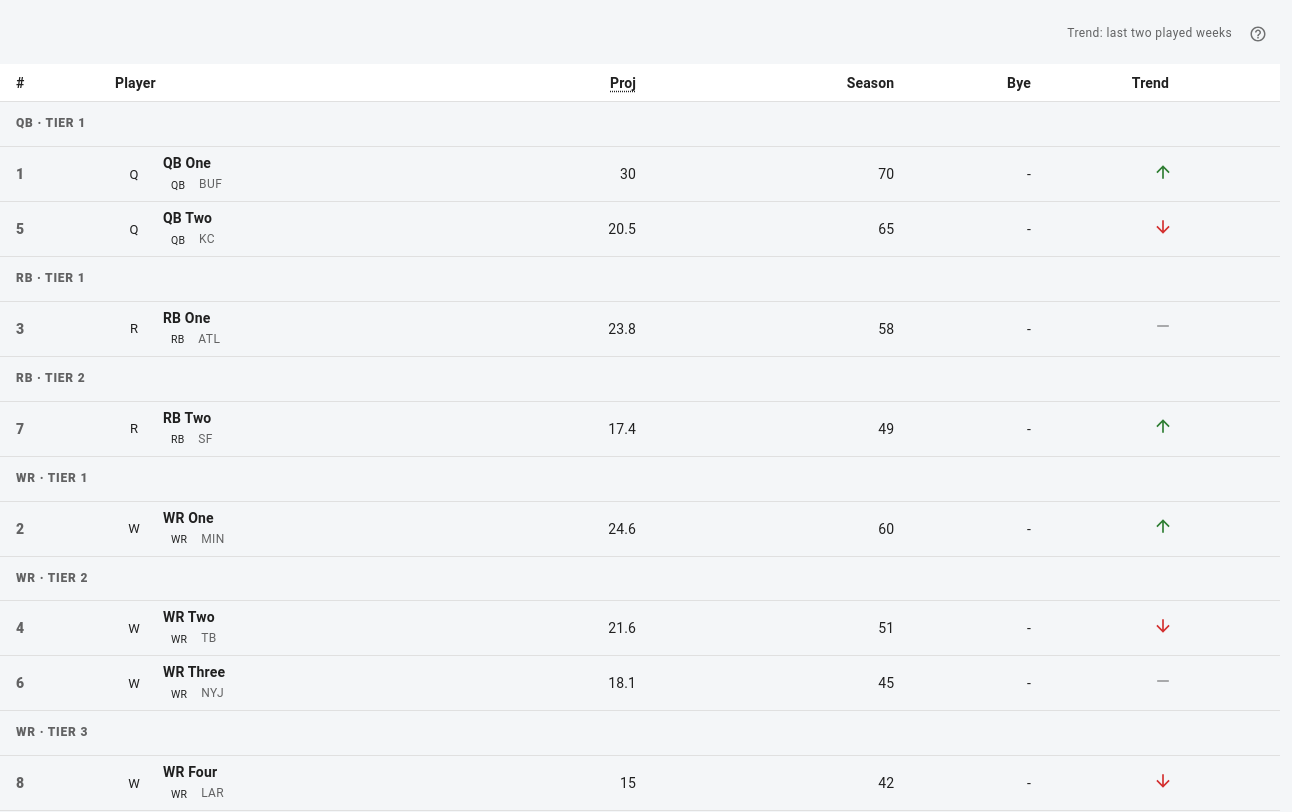
it: RankingTable states › hides tier bands during a custom metric sort
Step 1. Click the button "Season" → {"x": 870, "y": 83}, box top-left (847, 75), bottom-right (894, 91)
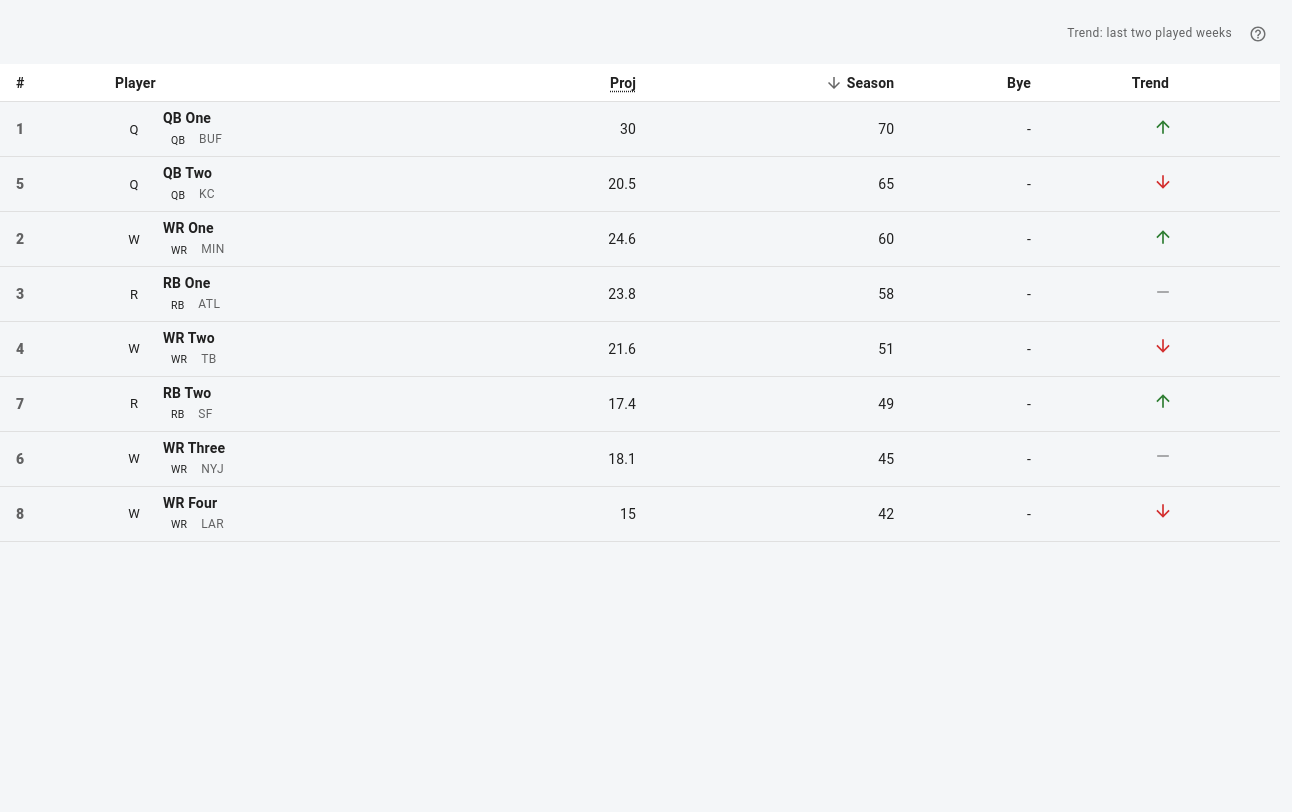
Result: the text "QB · Tier 1" is gone
